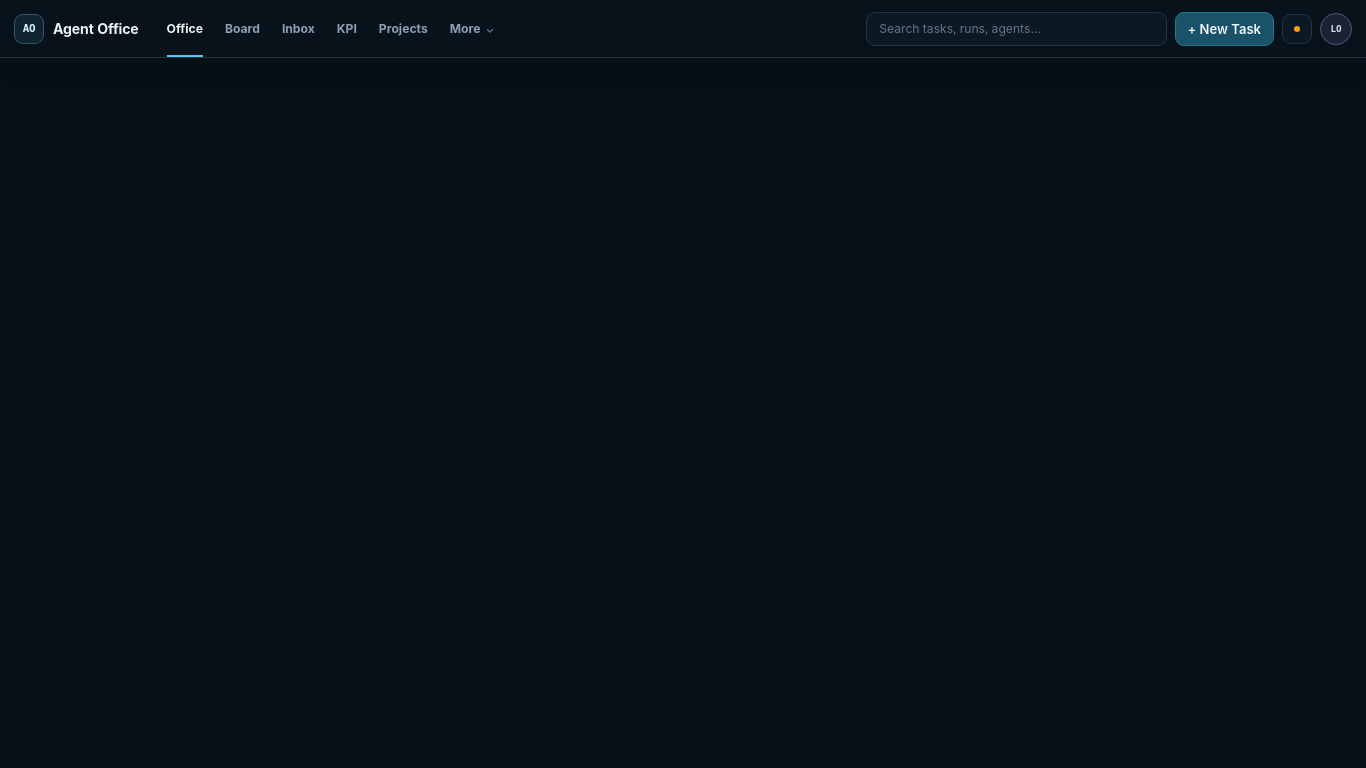
Test: global New Task › opens the existing modal and routes to the canonical task after success
Click the button "+ New Task": (1224, 28) [1175,12,1274,46]
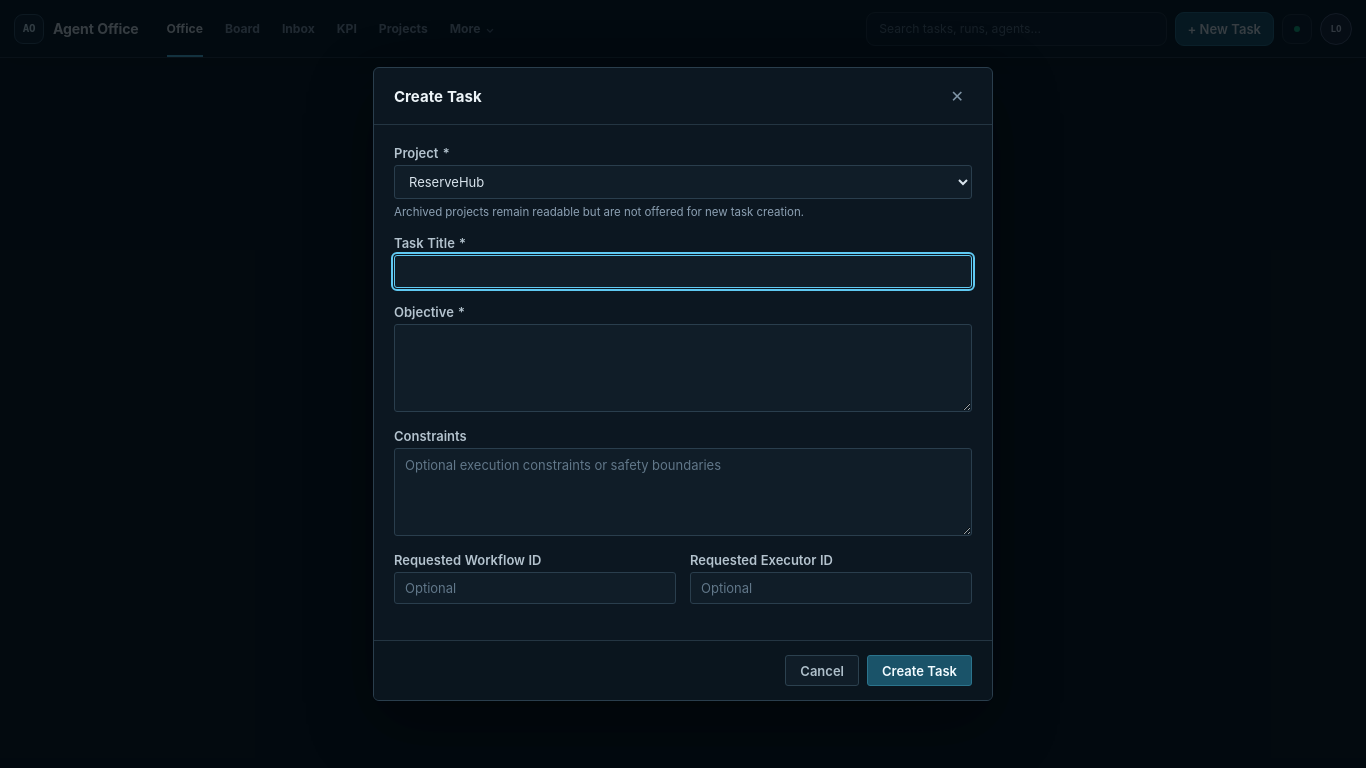
Select "ReserveHub" in the dropdown labelled "Project *": (683, 182) [394,165,972,199]
In the field labelled "Task Title *": (683, 272) [394,255,972,288], type "Refactor auth middleware"
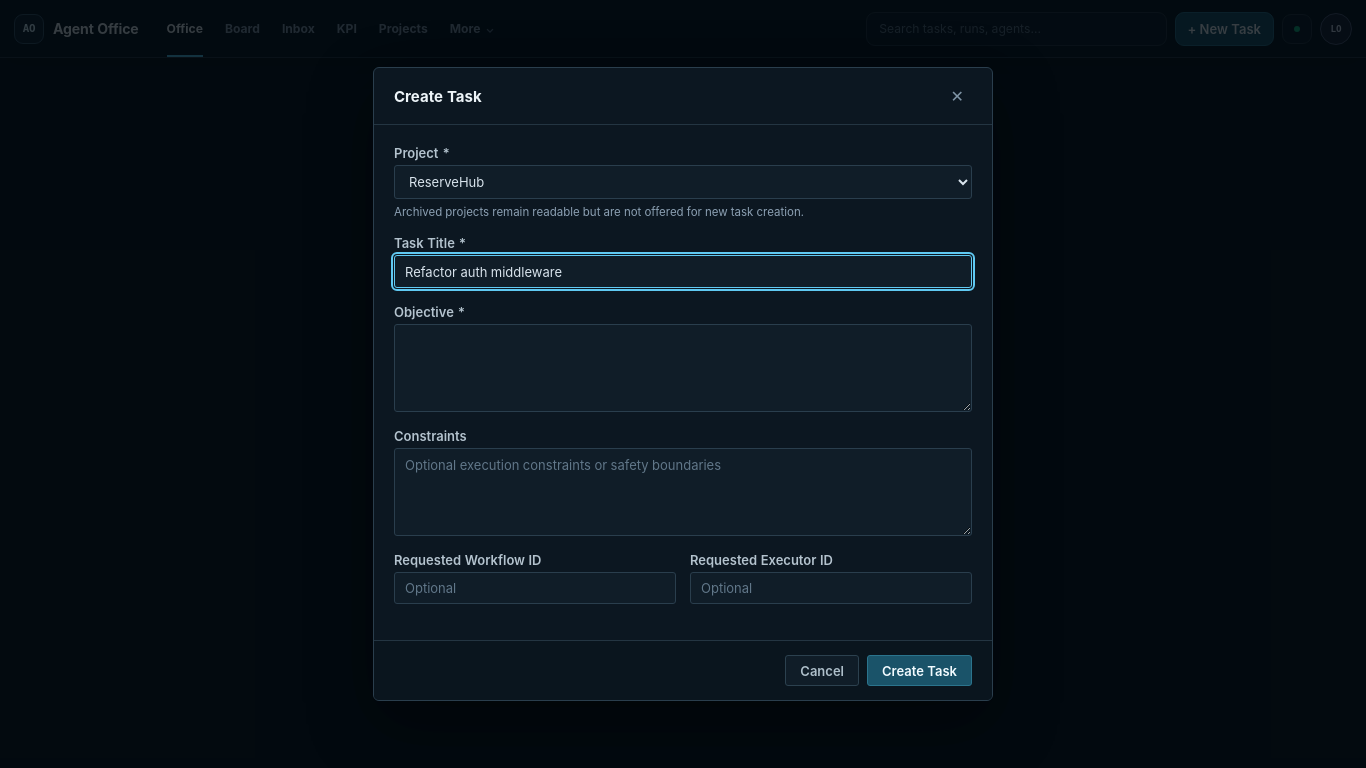
In the text box labelled "Objective *": (683, 368) [394,324,972,412], type "Centralize token checks."
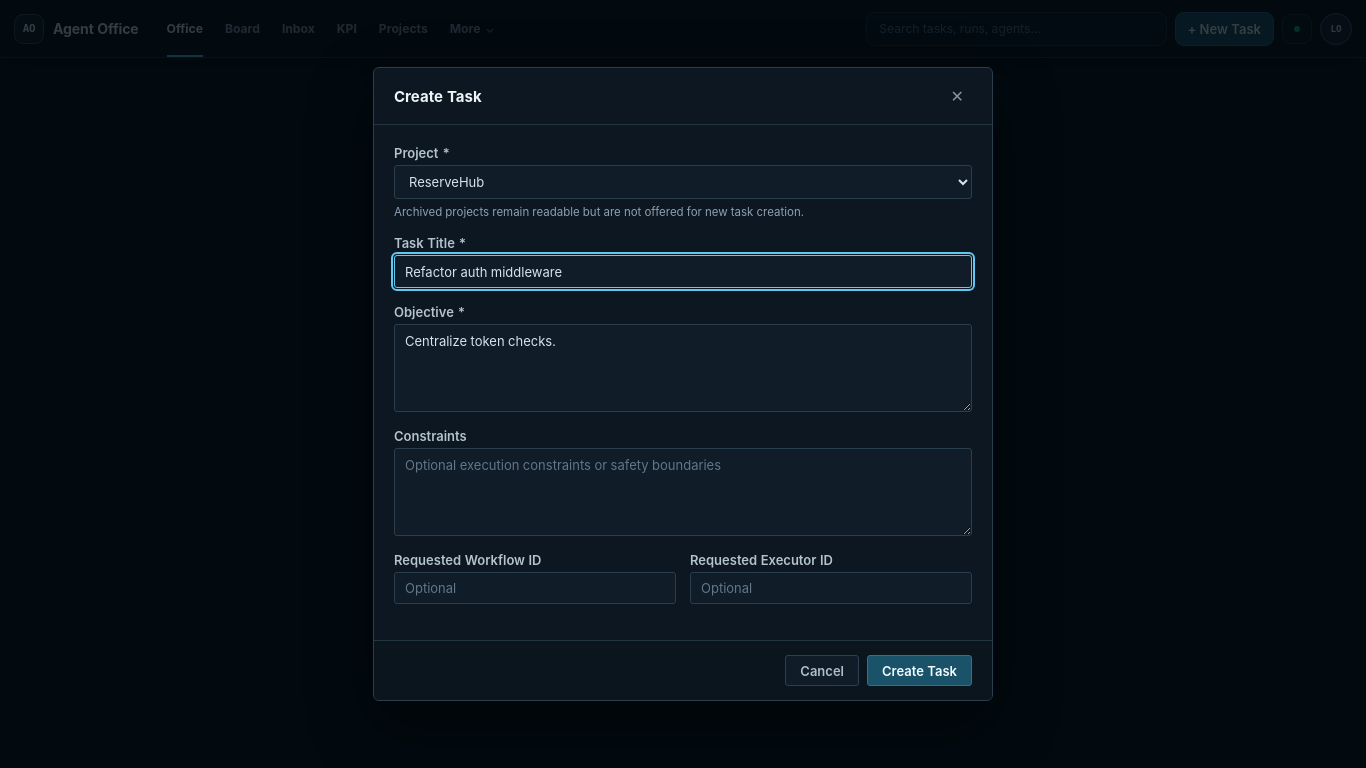
Click the button "Create Task": (920, 671) [867,655,972,686]
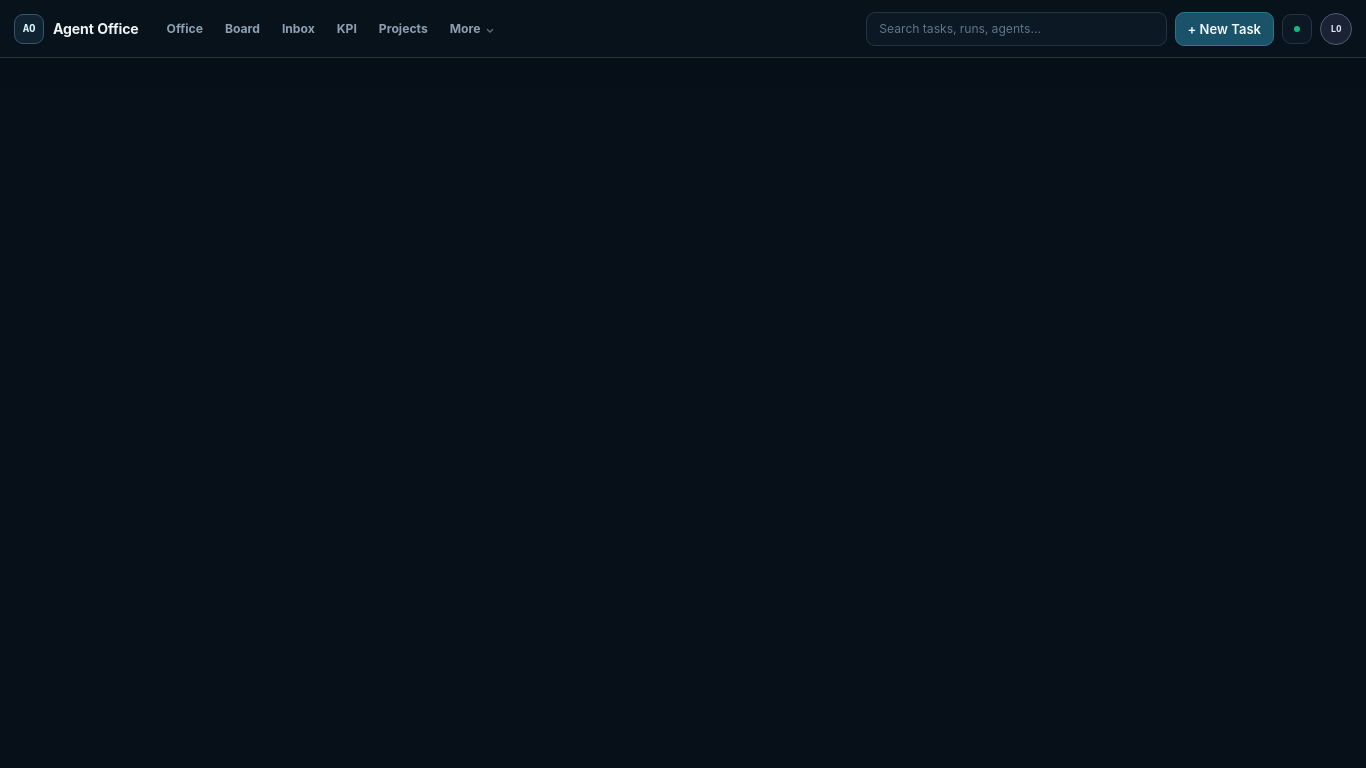
Check: the heading "Create Task" is gone
